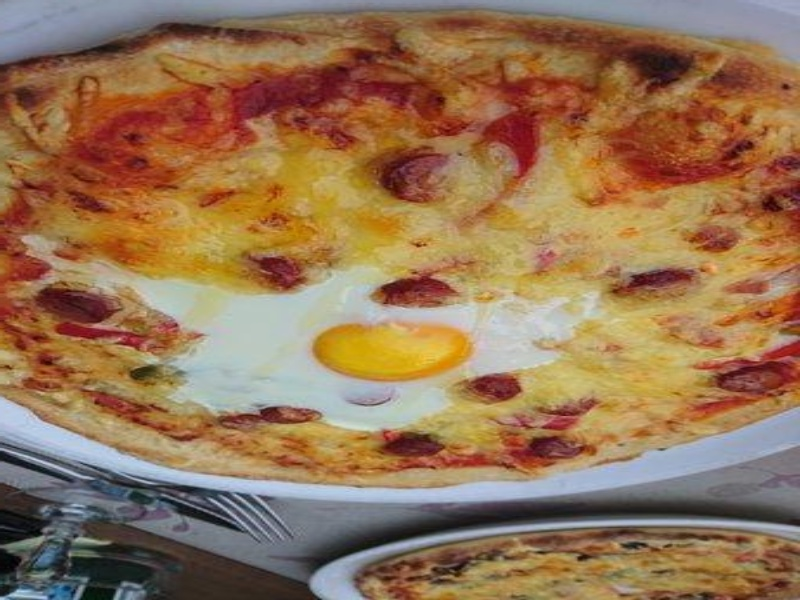oeuf: (300, 299, 504, 394)
